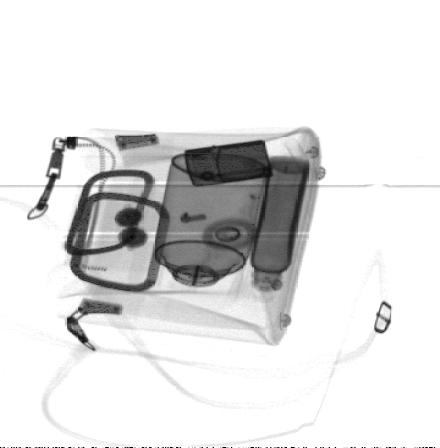Lighter: (185, 140, 274, 187)
Sprayer: (146, 152, 265, 314)
